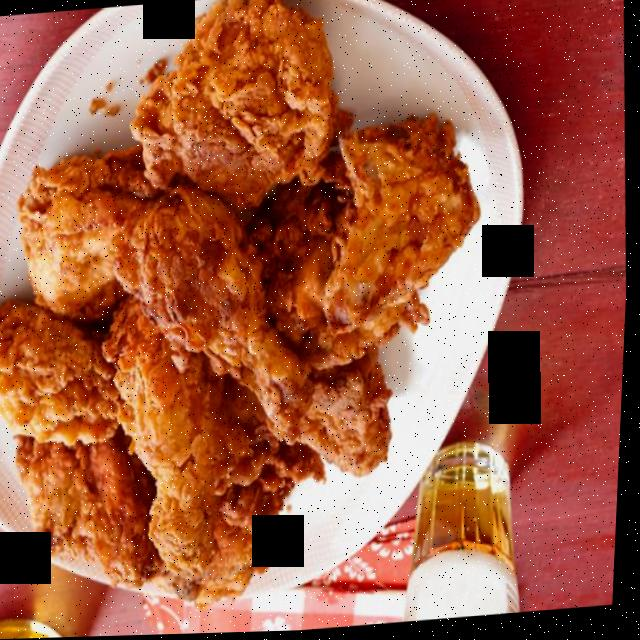Frango: (0, 0, 515, 633)
